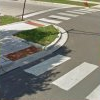crosswalk: (23, 54, 100, 100), (38, 9, 94, 23)
